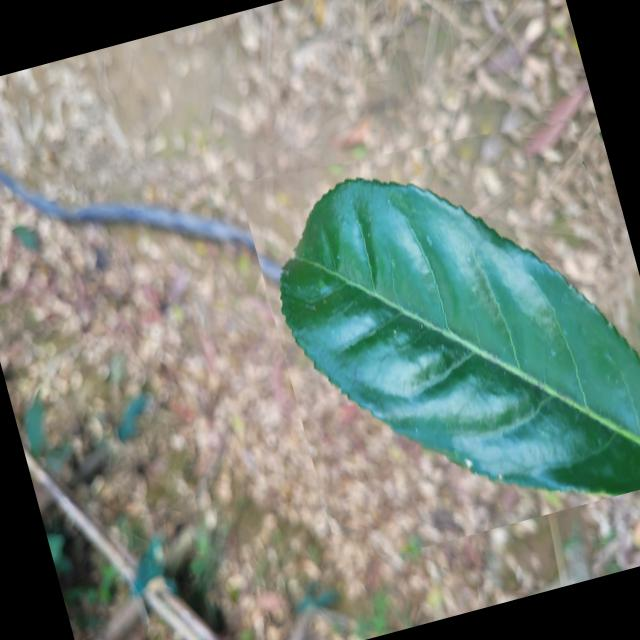Category D(7+ days, Not for Tea): (236, 85, 640, 568)
